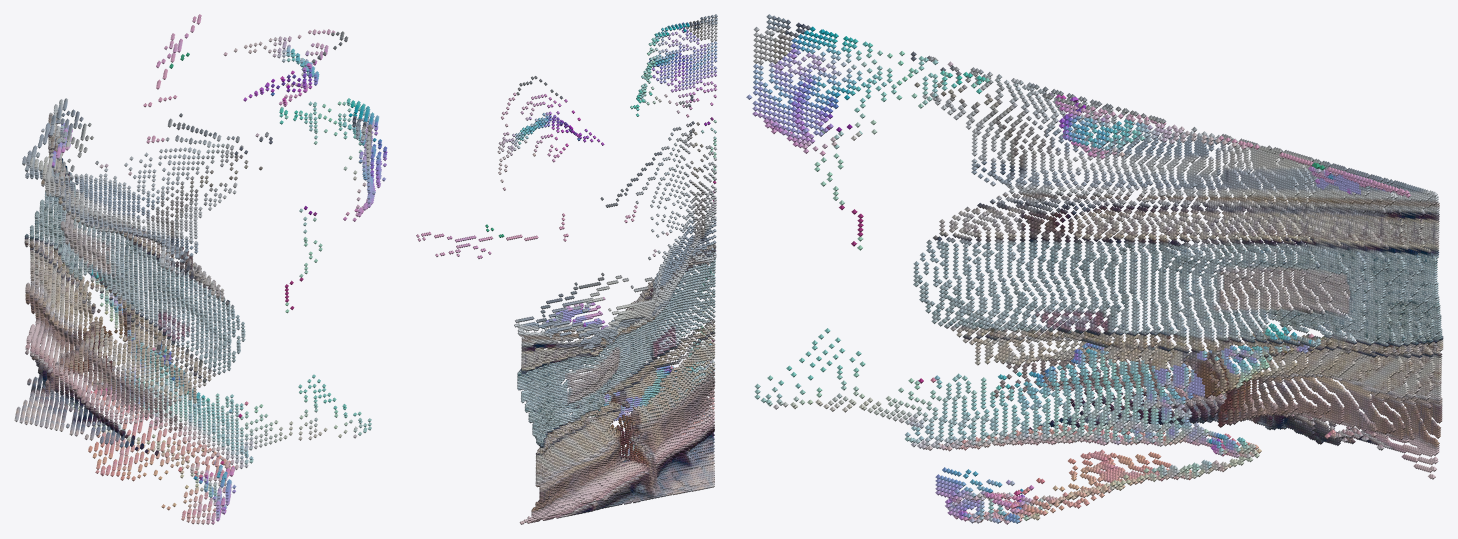
Rendered from combine_pred.glb.
3 renders of one model, left to right at view 1: azimuth 30°, elevation 25°; view 2: azimuth 150°, elevation 25°; view 3: azimuth 270°, elevation 25°, orthographic. The views are drawn at different scales.
Parts seen in each view (by area): view 1: world; view 2: world; view 3: world.
Boxes of the visible parts, left/top/right/bottom form: world: left=14, top=14, right=387, bottom=524; world: left=416, top=14, right=717, bottom=524; world: left=746, top=14, right=1443, bottom=524.
Bounding box in the file's own units: 3.8 × 5.75 × 6.54.
